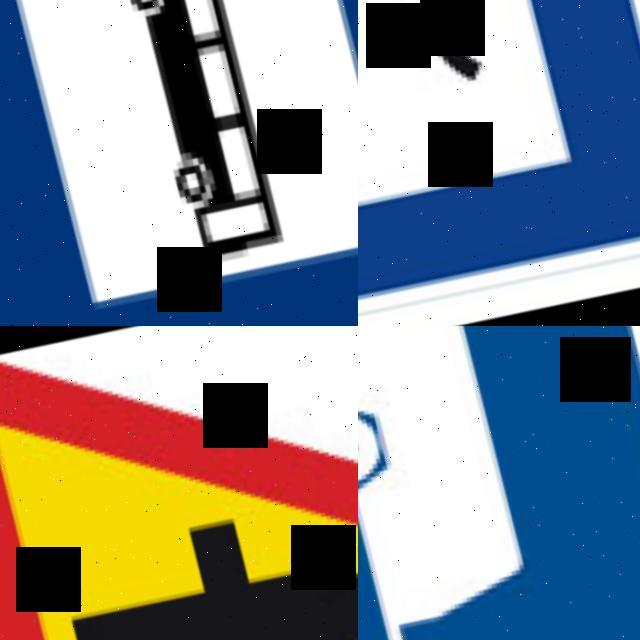166: (0, 326, 358, 640)
59: (358, 0, 640, 326)
69: (358, 326, 640, 640)
Bus stop: (0, 0, 358, 326)
